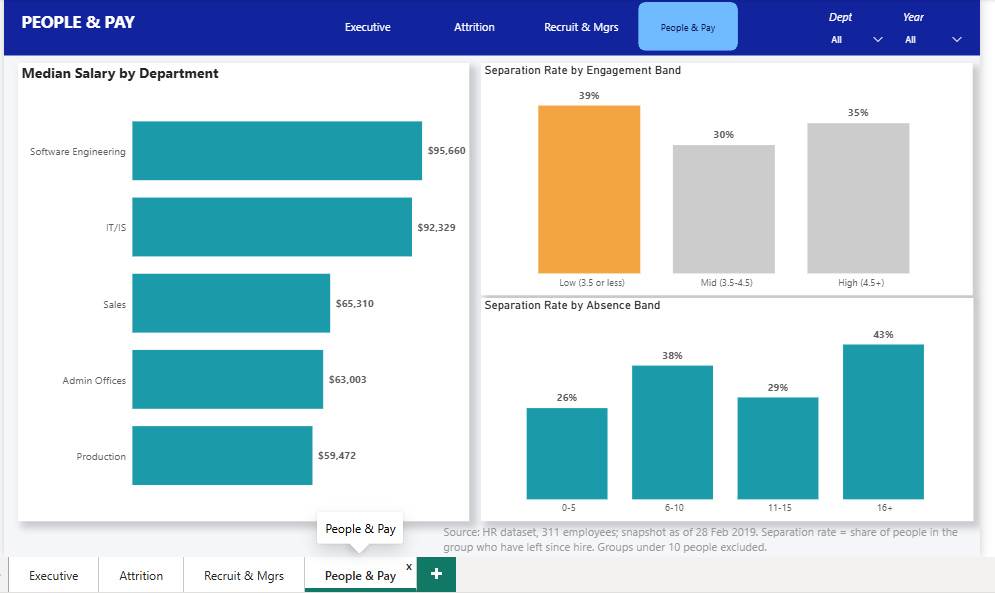

The dashboard page shown, as its layout file describes it:
{"tool":"powerbi","page":{"name":"People & Pay","canvas":[1400,800],"ordinal":3},"visuals":[{"type":"shape","box":[0,0,1400,81.4],"z":0},{"type":"textbox","box":[19.6,10.5,296.7,52.4],"z":1000},{"type":"slicer","fields":{"Values":["HRDataset.Department"]},"box":[1169.5,10.2,106.1,57.3],"z":2000},{"type":"slicer","fields":{"Values":["DimDate.Year"]},"box":[1275.6,10.2,113.3,57.3],"z":3000},{"type":"pageNavigator","box":[450.1,4.5,605.2,70.8],"z":4000},{"type":"clusteredBarChart","title":"Median Salary by Department","fields":{"Category":["HRDataset.Department"],"Y":["_measures.Median Salary"]},"box":[20.5,91.3,647.2,656.7],"z":5000},{"type":"clusteredColumnChart","fields":{"Category":["HRDataset.Engagement Band"],"Y":["_measures.Separation Rate"]},"box":[683.4,91.8,704.5,332.7],"z":6000},{"type":"clusteredColumnChart","fields":{"Category":["HRDataset.Absence Band"],"Y":["_measures.Separation Rate"]},"box":[683.5,428.3,705.5,319.7],"z":7000},{"type":"textbox","box":[625.2,748,774.8,52],"z":8000}]}

Visuals, with their boxes on the page's 1400x800 design canvas (x1, y1, x2, y2). These are canvas units, not pixel positions in the 995x593 screenshot, which may show the page scaled, cropped or inside an application window:
shape: region(0, 0, 1400, 81)
textbox: region(20, 10, 316, 63)
slicer - HRDataset.Department: region(1170, 10, 1276, 68)
slicer - DimDate.Year: region(1276, 10, 1389, 68)
pageNavigator: region(450, 4, 1055, 75)
"Median Salary by Department" clusteredBarChart: region(20, 91, 668, 748)
clusteredColumnChart - HRDataset.Engagement Band x _measures.Separation Rate: region(683, 92, 1388, 424)
clusteredColumnChart - HRDataset.Absence Band x _measures.Separation Rate: region(684, 428, 1389, 748)
textbox: region(625, 748, 1400, 800)
